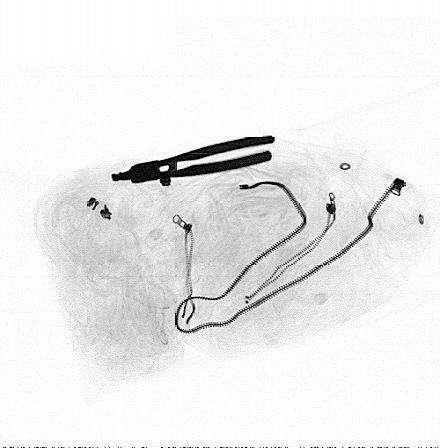Pliers: (110, 133, 277, 189)
